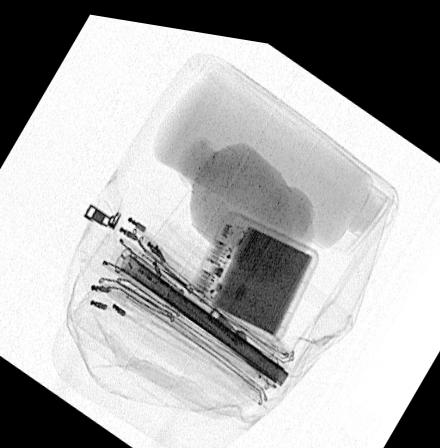Powerbank: (185, 202, 321, 333)
